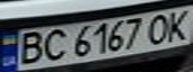1: (90, 20, 112, 54)
6: (106, 19, 130, 52), (69, 24, 93, 57)
7: (121, 16, 148, 50)
B: (12, 29, 48, 65)
C: (36, 27, 72, 62)
K: (160, 7, 193, 42)
O: (145, 11, 175, 45)
